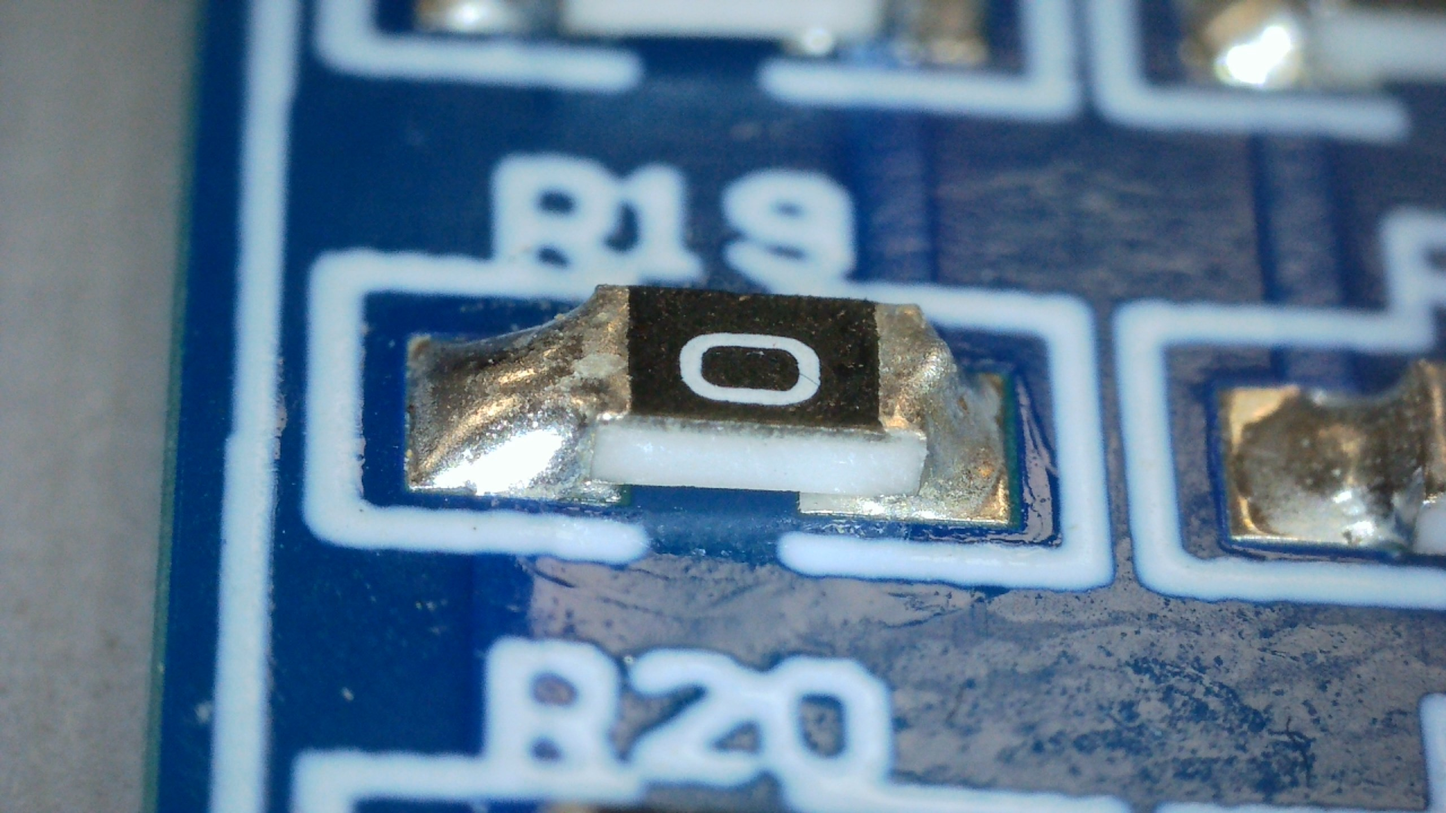NG: (877, 302, 991, 509)
OK: (405, 285, 629, 486)
